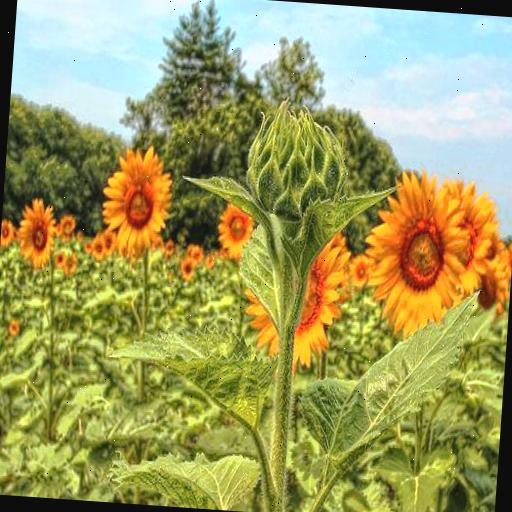sunflower: (360, 168, 478, 346), (98, 140, 173, 260), (14, 196, 59, 270), (216, 200, 256, 254)
